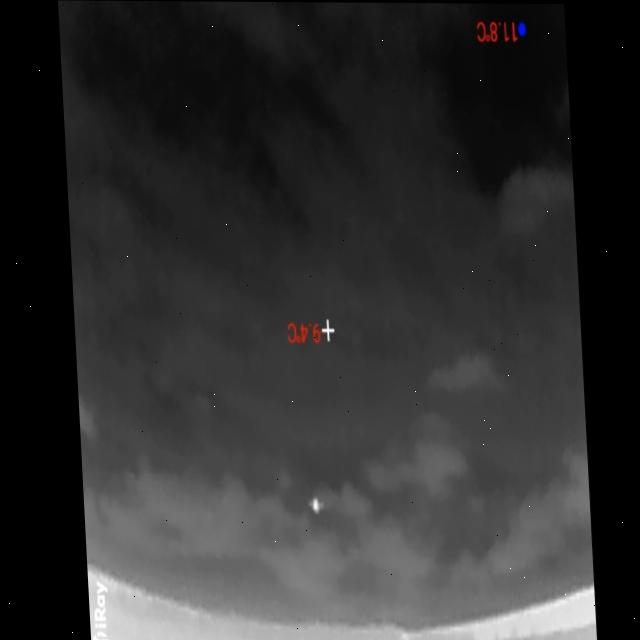drone: (300, 491, 320, 517)
